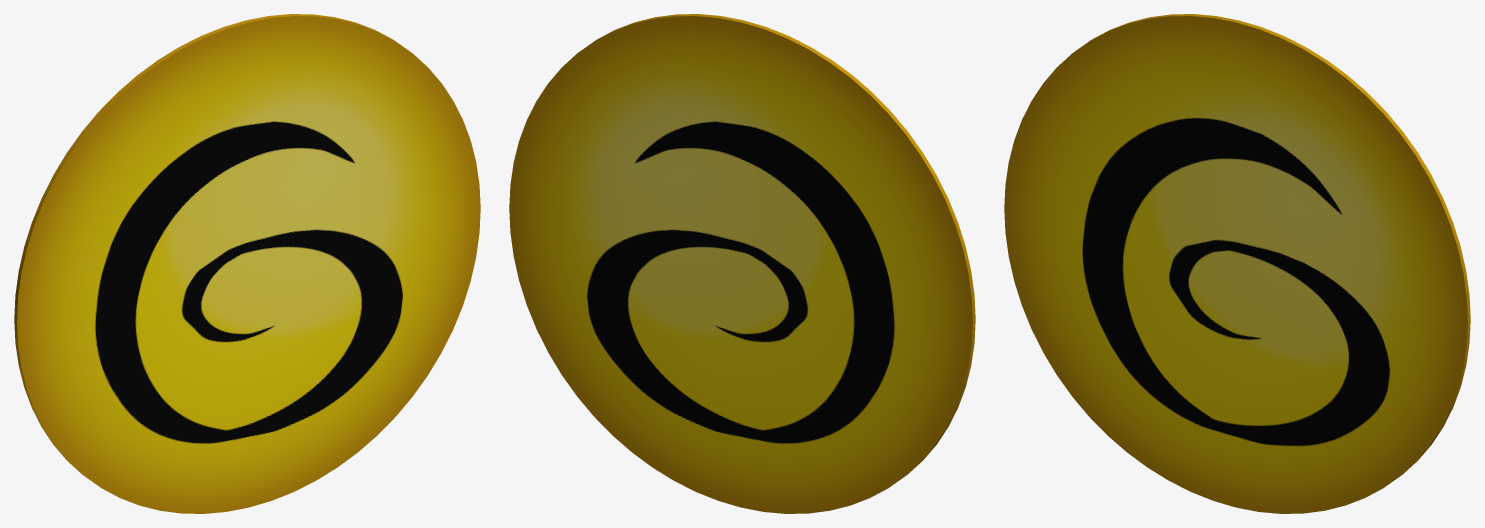
File: AmberBall.fbx
The picture shows the model from 3 angles, left to right: view 1: azimuth 30°, elevation 25°; view 2: azimuth 150°, elevation 25°; view 3: azimuth 330°, elevation 25°; orthographic projection.
Parts seen in each view (by area): view 1: AmberBall; view 2: AmberBall; view 3: AmberBall.
Part boxes in pixels (x1,y1,x2,y2): AmberBall: (14,14,480,513); AmberBall: (509,14,975,513); AmberBall: (1004,14,1470,513).
Size of what is drawn, in the model's own units: 1.05 by 100 by 100.
1 material, 1 textured.
